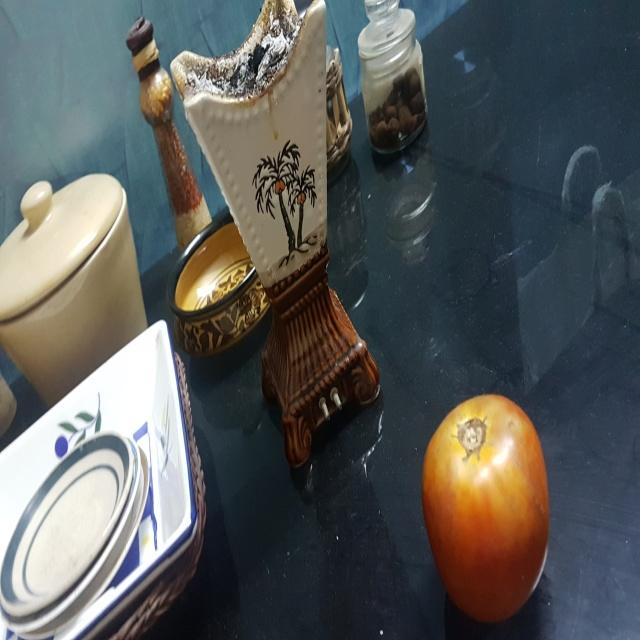tomato: (416, 391, 552, 620)
